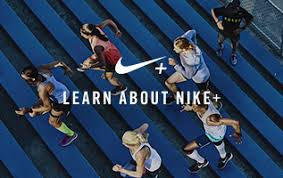nike: (107, 51, 175, 84)
